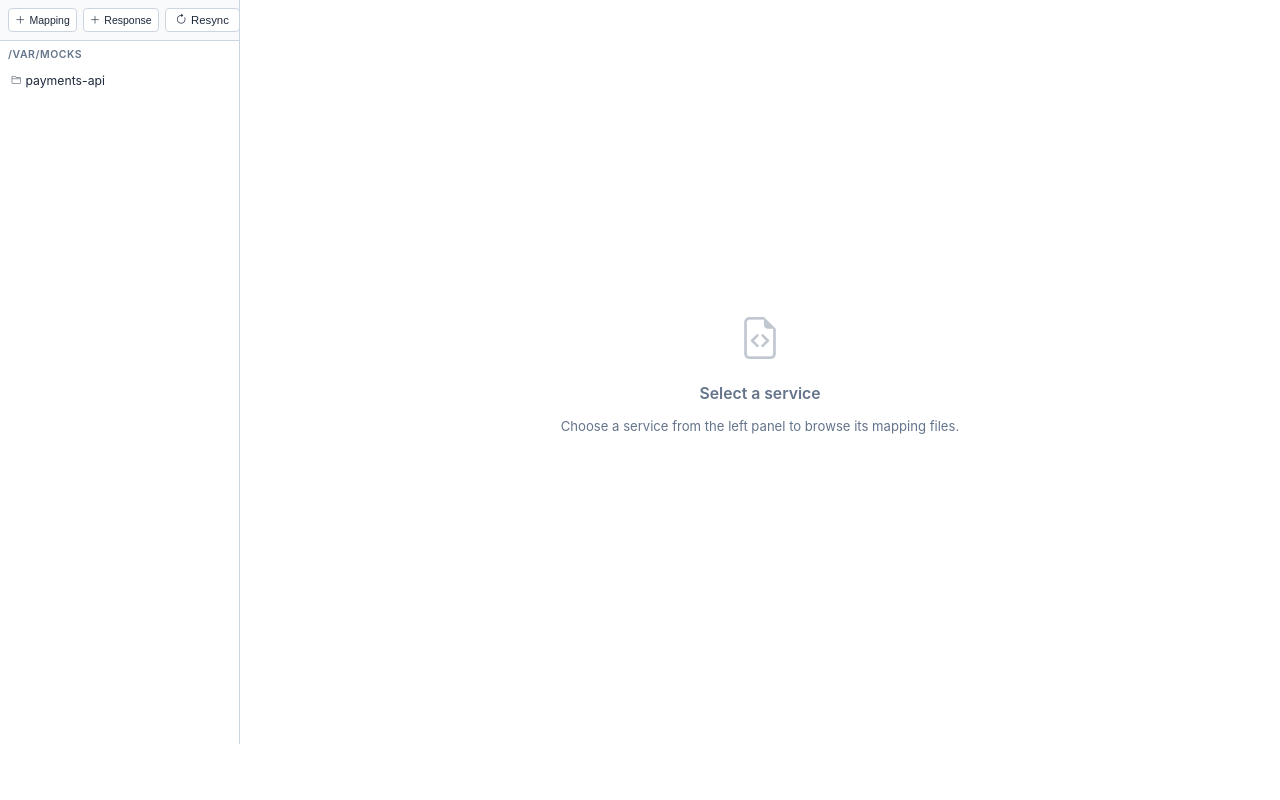
Test: MappingsPage — FileNameModal cancel › cancelling the file name modal closes it without creating a file
Note: Select service then open New Mapping modal
Click the text "payments-api": coordinates (65, 80) [25, 73, 105, 88]
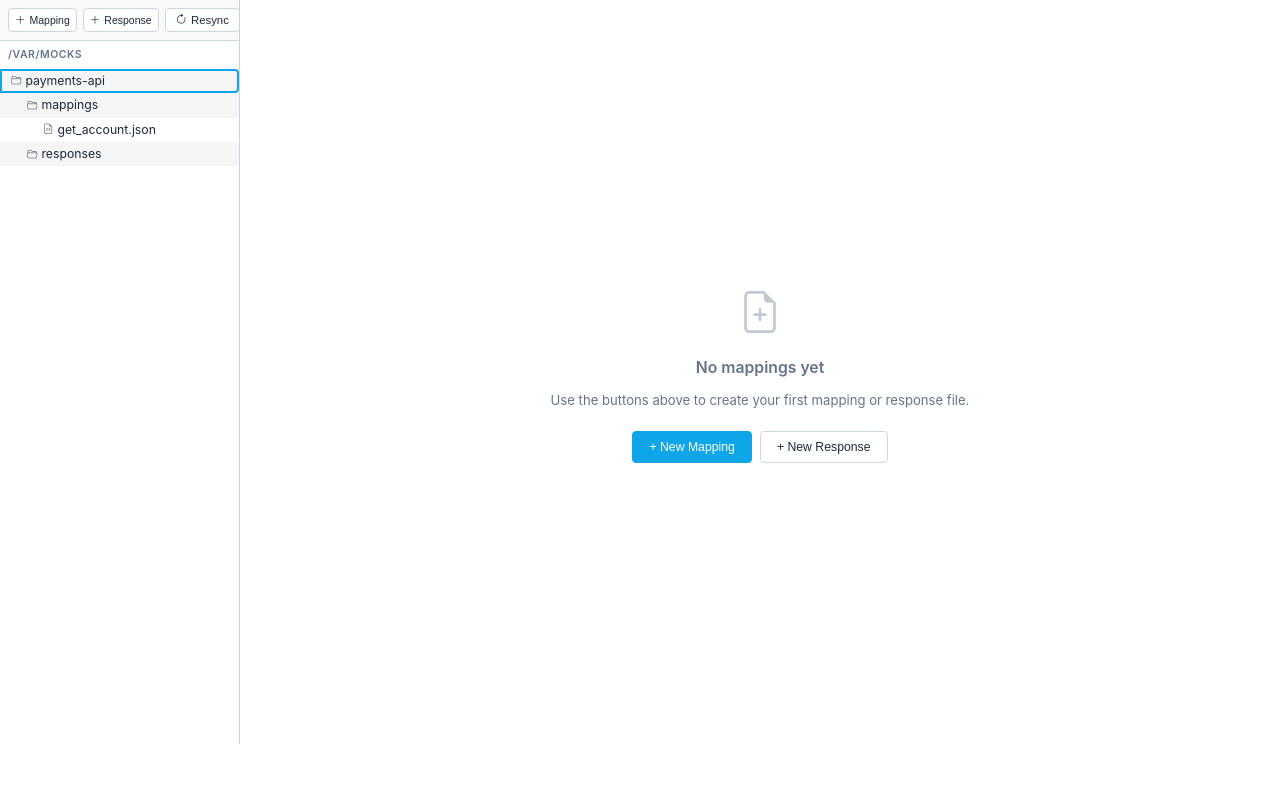
Click the button with test id "mappings-btn-new-mapping": coordinates (42, 20) [8, 8, 77, 32]
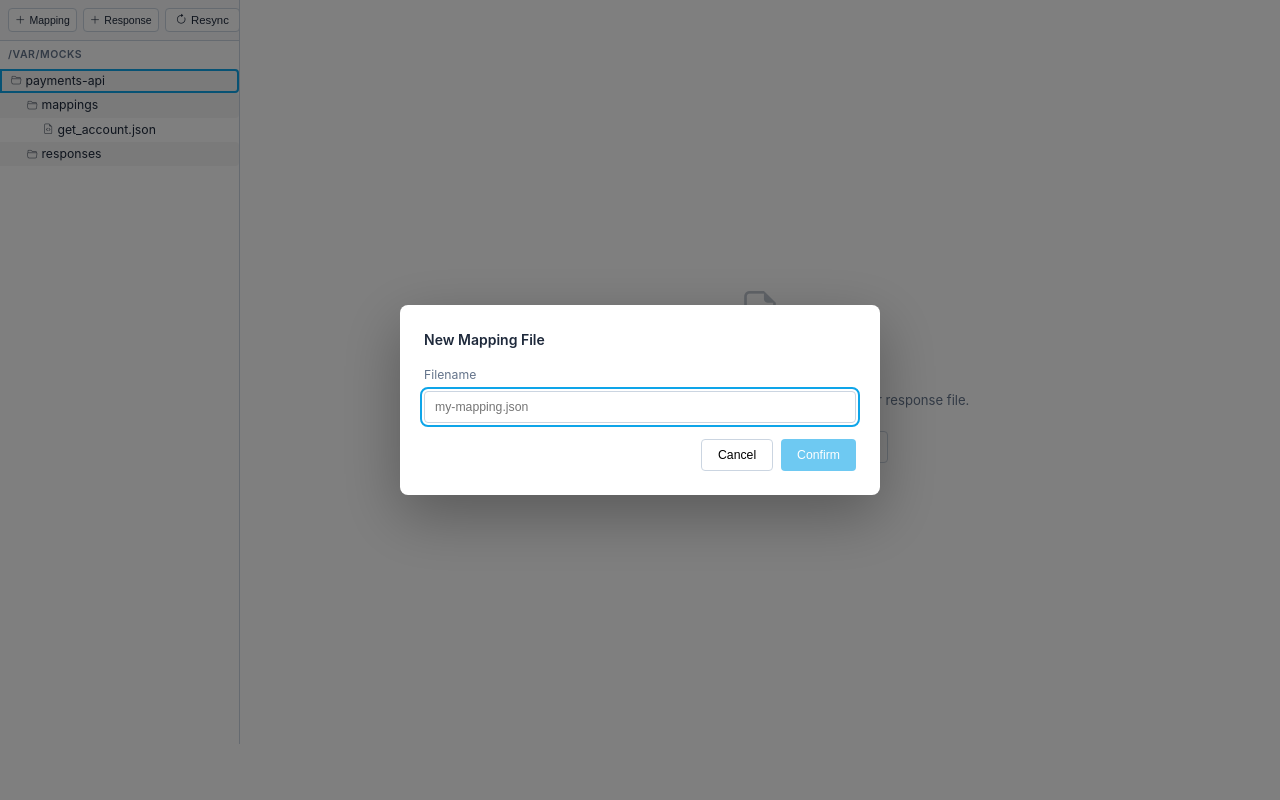
Expected: the dialog with test id "mappings-modal-file-name" is shown
Click the button "Cancel": coordinates (737, 455) [701, 439, 773, 471]
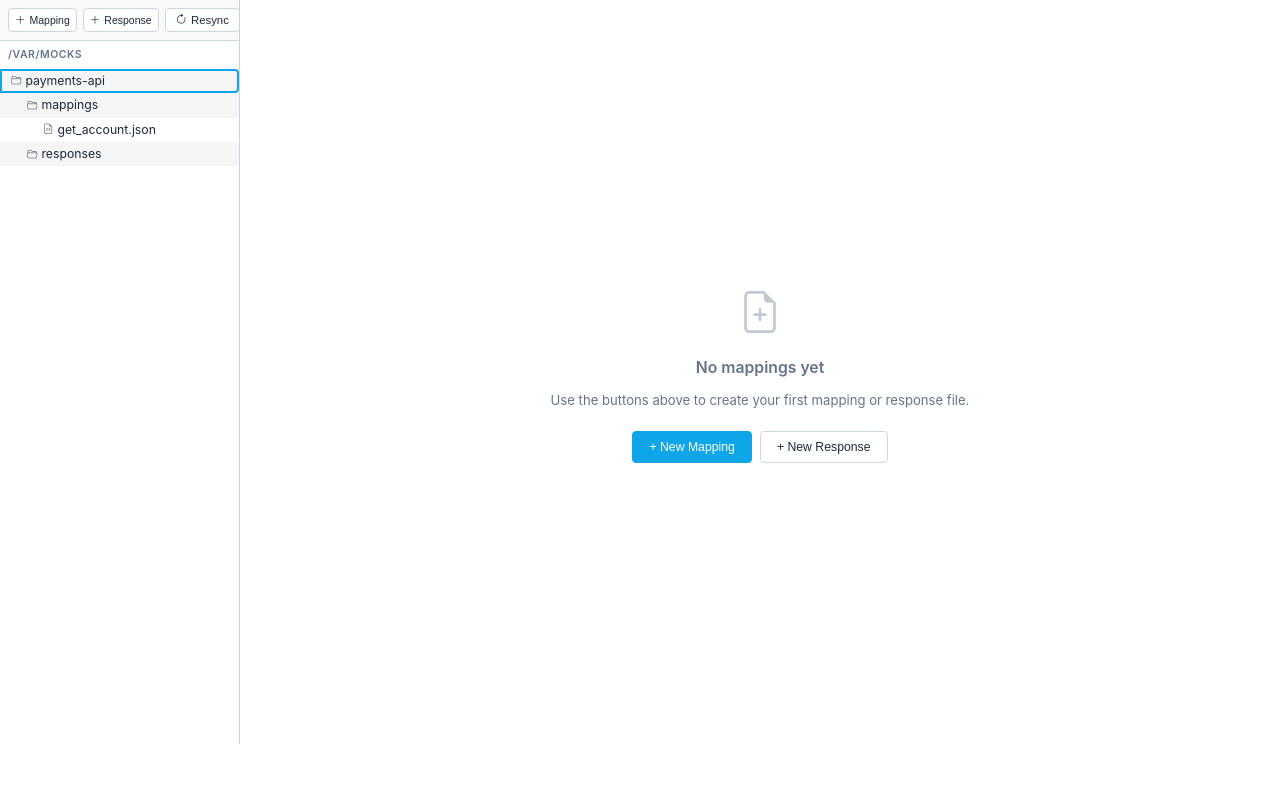
Expected: the dialog with test id "mappings-modal-file-name" is gone
